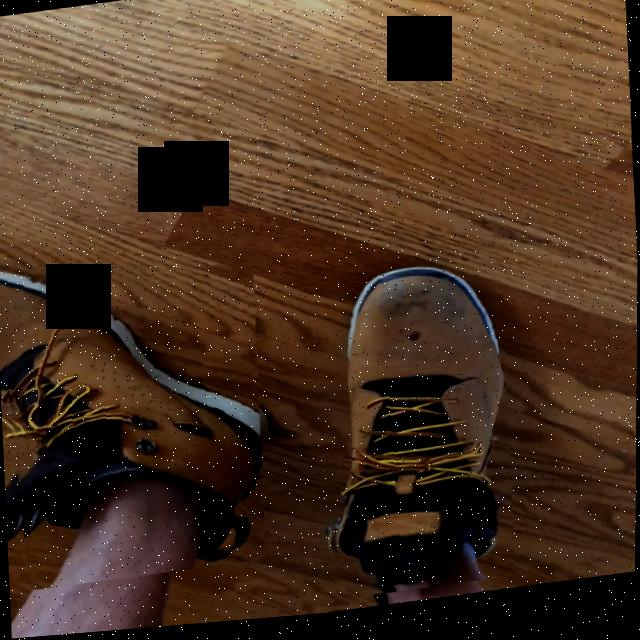shoe: (0, 281, 263, 575), (332, 270, 508, 600)
